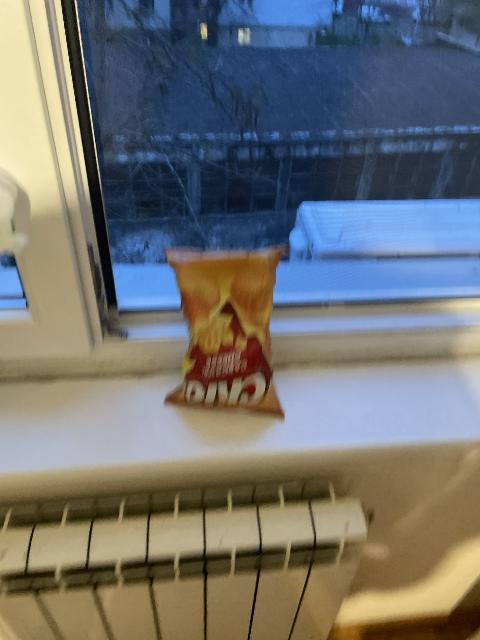Chio Cascaval 125g: (159, 247, 289, 419)
